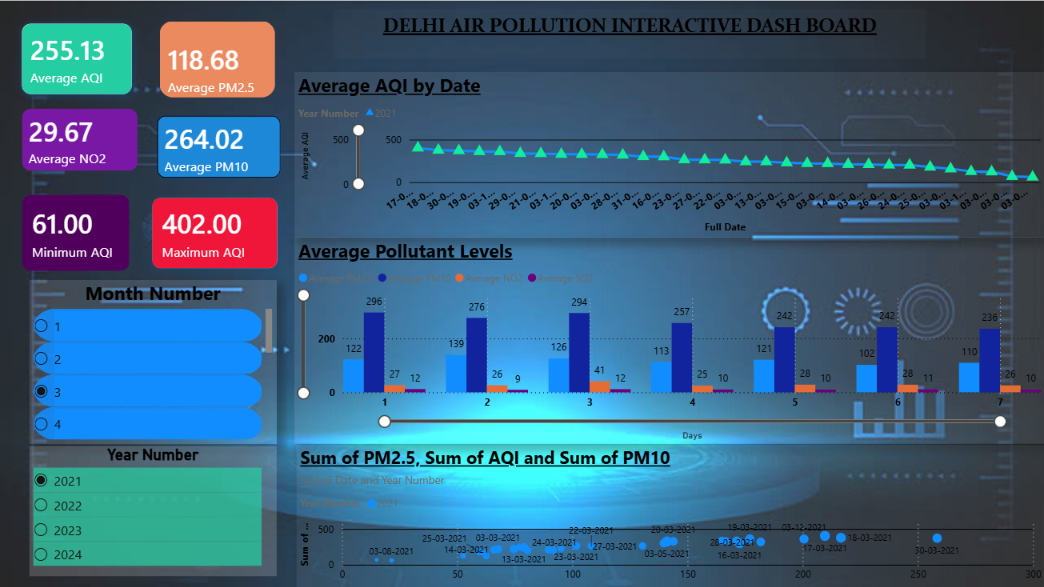

What the dashboard file says about the page in this screenshot:
{"tool":"powerbi","page":{"name":"Page 1","canvas":[1280,720],"ordinal":0},"visuals":[{"type":"image","box":[1.2,0,1279.1,720.2],"z":0},{"type":"cardVisual","fields":{"Data":["delhi_air_quality_clean.Average NO2"]},"box":[0,103.9,199.3,134.5],"z":2000},{"type":"cardVisual","fields":{"Data":["delhi_air_quality_clean.Average PM10"]},"box":[165.1,112.5,209.1,134.5],"z":4000},{"type":"clusteredColumnChart","title":"Average Pollutant Levels","fields":{"Y":["delhi_air_quality_clean.Average PM2.5","delhi_air_quality_clean.Average PM10","delhi_air_quality_clean.Average NO2","delhi_air_quality_clean.Average SO2"],"Category":["delhi_air_quality_clean.Days"]},"box":[362,289.8,918.3,253.1],"z":6000},{"type":"scatterChart","fields":{"Size":["Sum(delhi_air_quality_clean.PM10)"],"X":["Sum(delhi_air_quality_clean.PM2.5)"],"Y":["Sum(delhi_air_quality_clean.AQI)"],"Category":["delhi_air_quality_clean.Full Date"]},"box":[362,545.4,918.3,174.9],"z":7000},{"type":"cardVisual","fields":{"Data":["delhi_air_quality_clean.Maximum AQI"]},"box":[165.1,218.9,199.3,132.1],"z":8000},{"type":"listSlicer","fields":{"Values":["delhi_air_quality_clean.Month Number"]},"box":[37.9,342.4,302,200.5],"z":10000},{"type":"listSlicer","fields":{"Values":["delhi_air_quality_clean.Year Number"]},"box":[37.9,545.4,302,159],"z":11000},{"type":"textbox","box":[448.8,1.2,734.9,88],"z":13000},{"type":"cardVisual","fields":{"Data":["delhi_air_quality_clean.Minimum AQI"]},"box":[0,209.1,189.5,151.6],"z":14000},{"type":"lineChart","title":"Average AQI by Date","fields":{"Y":["delhi_air_quality_clean.Average AQI"],"Series":["delhi_air_quality_clean.Year Number"],"Category":["delhi_air_quality_clean.Full Date Hierarchy.Full Date"]},"box":[359.5,89.3,918.3,201.8],"z":14001},{"type":"cardVisual","fields":{"Data":["delhi_air_quality_clean.Average AQI"]},"box":[0,0,192,144],"z":14003},{"type":"cardVisual","fields":{"Data":["delhi_air_quality_clean.Average PM2.5"]},"box":[176,0,176,144],"z":14004}]}

Visuals, with their boxes in screenshot pixels (x1, y1, x2, y2), scaled from the page's 1280x720 canvas onto the 1044x587 screenshot:
image: (1, 0, 1043, 586)
cardVisual - delhi_air_quality_clean.Average NO2: (0, 85, 163, 194)
cardVisual - delhi_air_quality_clean.Average PM10: (135, 92, 305, 201)
"Average Pollutant Levels" clusteredColumnChart: (295, 236, 1043, 443)
scatterChart - Sum(delhi_air_quality_clean.PM10) x Sum(delhi_air_quality_clean.PM2.5): (295, 445, 1043, 586)
cardVisual - delhi_air_quality_clean.Maximum AQI: (135, 178, 297, 286)
listSlicer - delhi_air_quality_clean.Month Number: (31, 279, 277, 443)
listSlicer - delhi_air_quality_clean.Year Number: (31, 445, 277, 574)
textbox: (366, 1, 965, 73)
cardVisual - delhi_air_quality_clean.Minimum AQI: (0, 170, 155, 294)
"Average AQI by Date" lineChart: (293, 73, 1042, 237)
cardVisual - delhi_air_quality_clean.Average AQI: (0, 0, 157, 117)
cardVisual - delhi_air_quality_clean.Average PM2.5: (144, 0, 287, 117)
